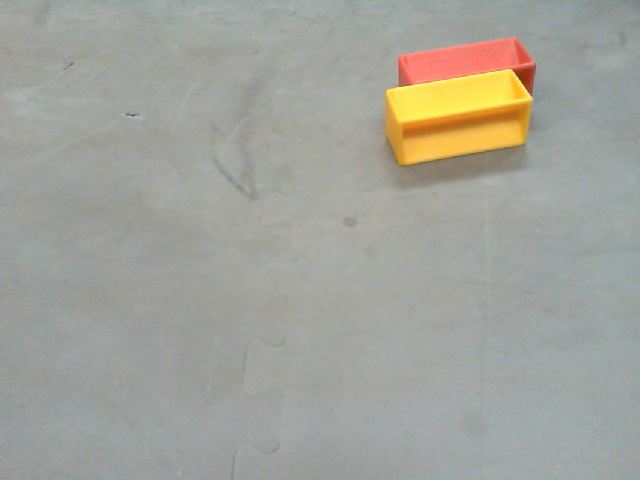RedSample: (399, 33, 536, 98)
YellowSample: (387, 73, 537, 168)
